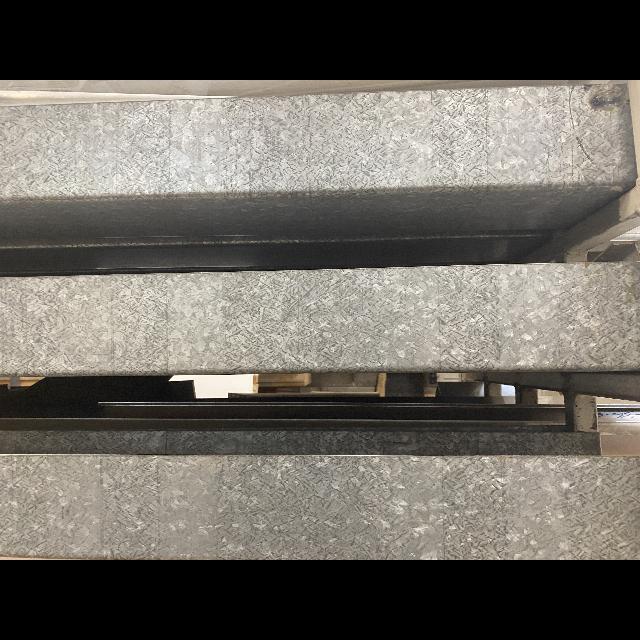Galvanized Steel: (0, 82, 636, 242), (0, 429, 640, 560), (0, 261, 640, 375)
